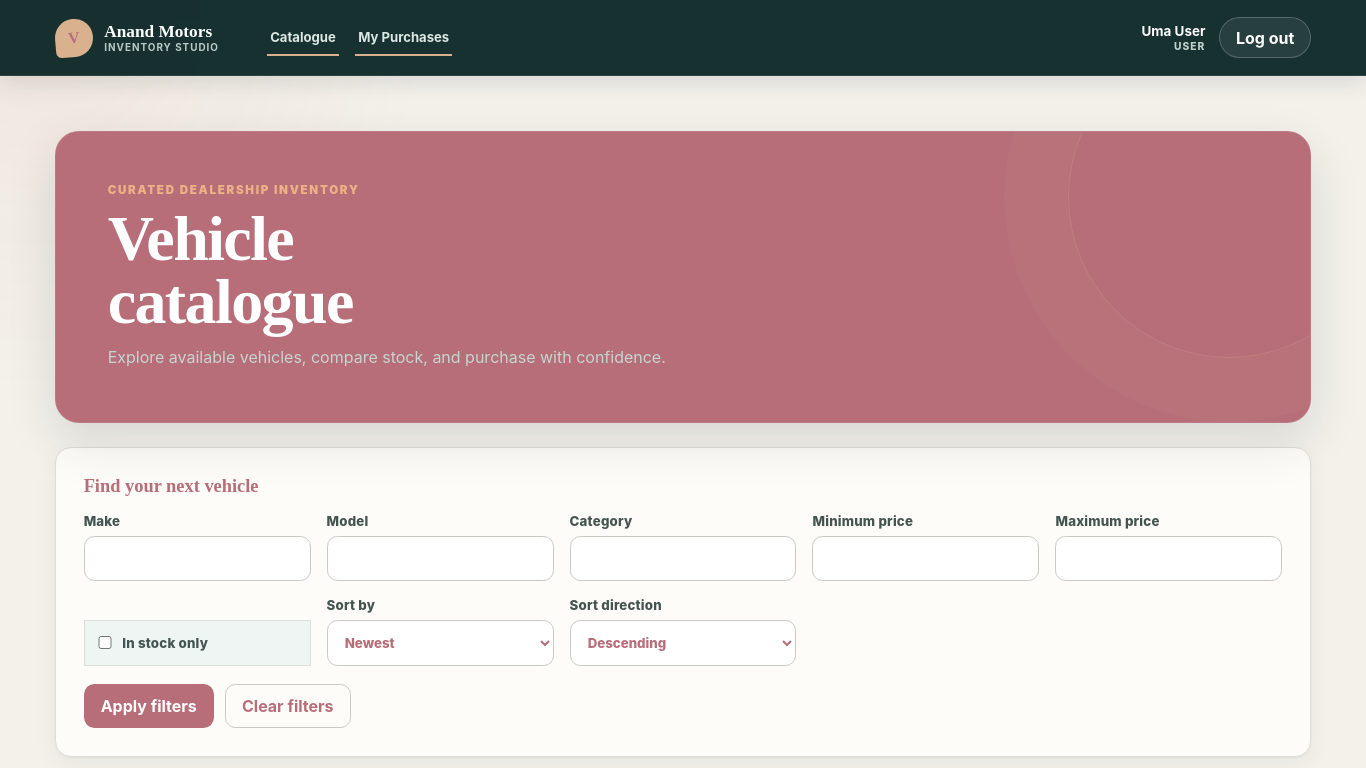
Test case: session-aware routing › clears the session and returns to login when the user logs out
Click the button "Log out" at (1265, 38), box [1219, 17, 1311, 58]
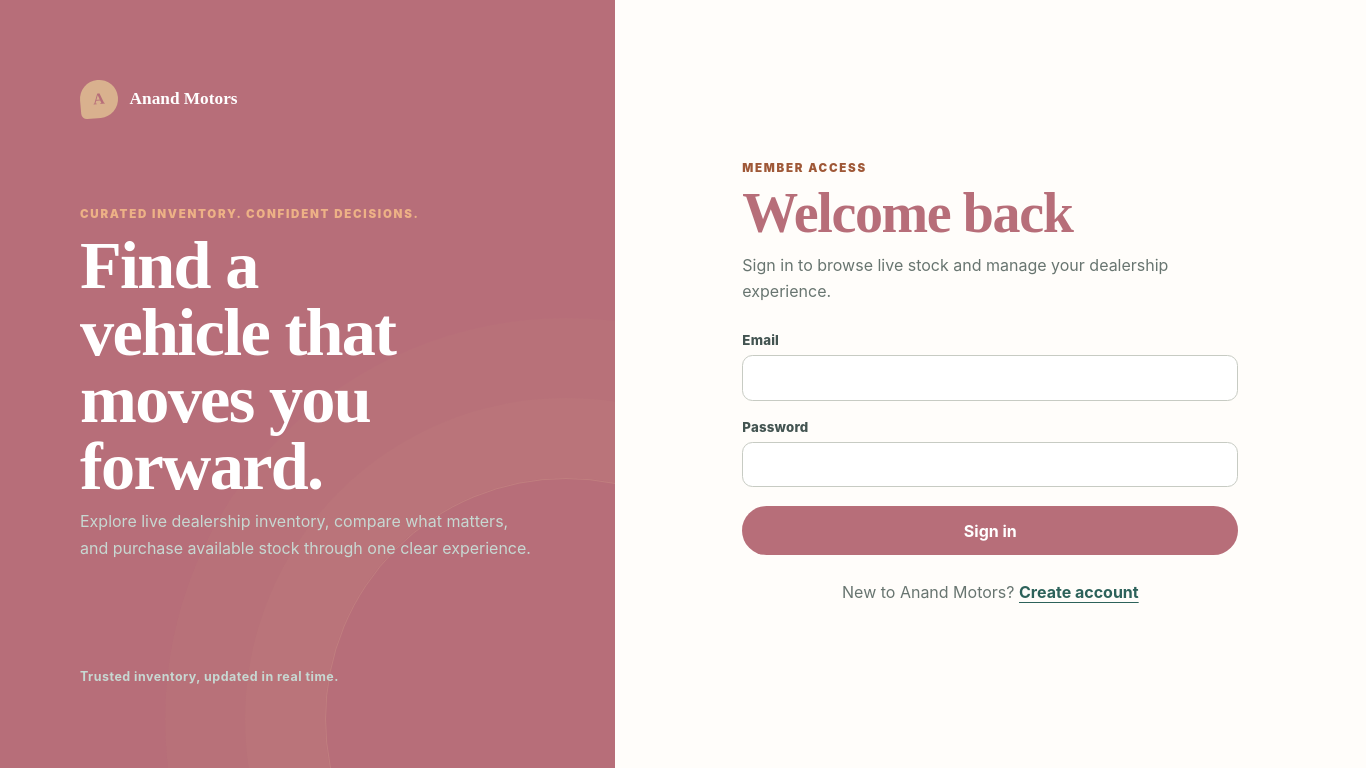
Result: the field labelled "Email" is shown at [742, 355, 1238, 401]
